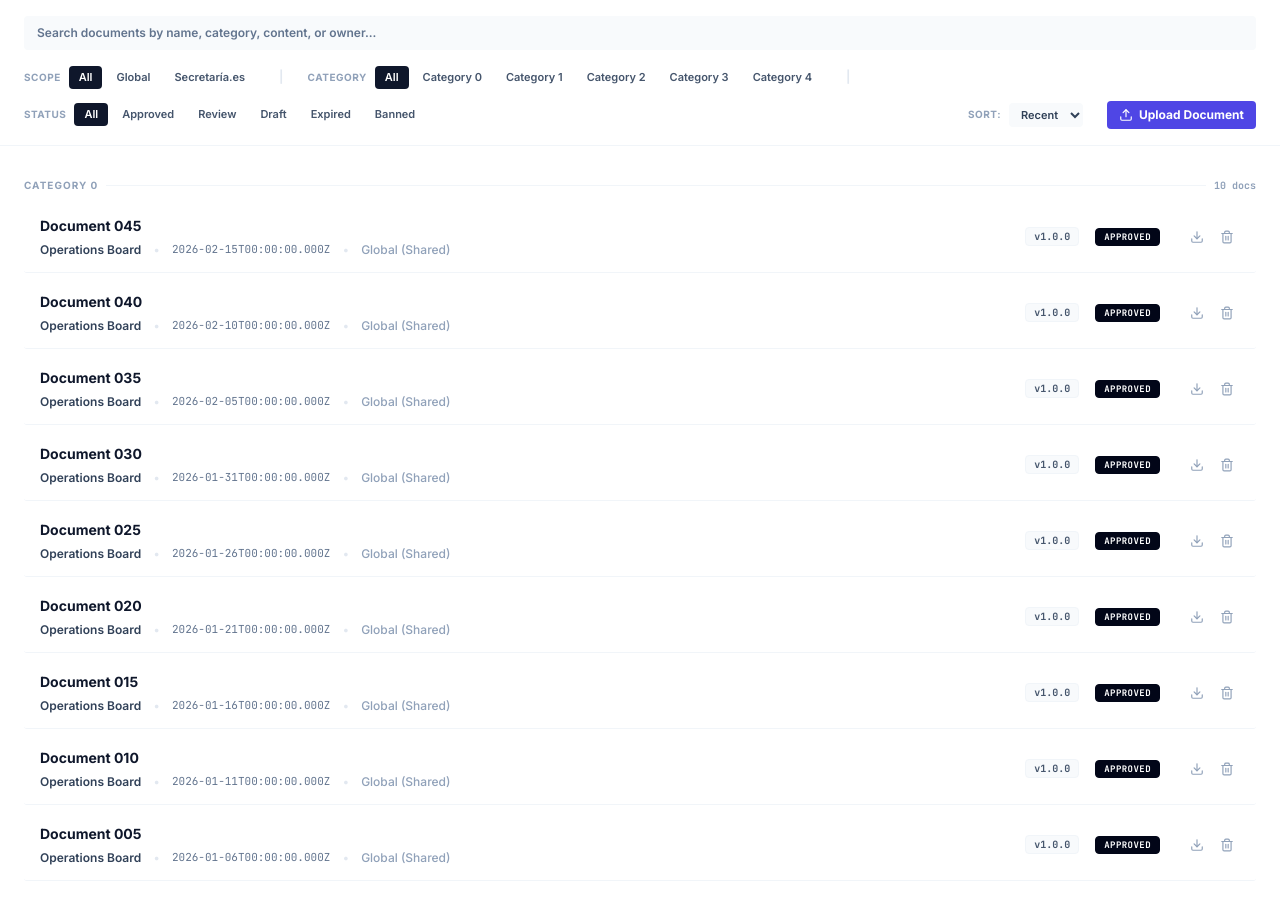
DocList virtualization › search filtering narrows the rendered set
Type "Document 007" into the field labelled "Search documents by name, category, content, or owner..." at (640, 33), box top-left (24, 16), bottom-right (1256, 50)
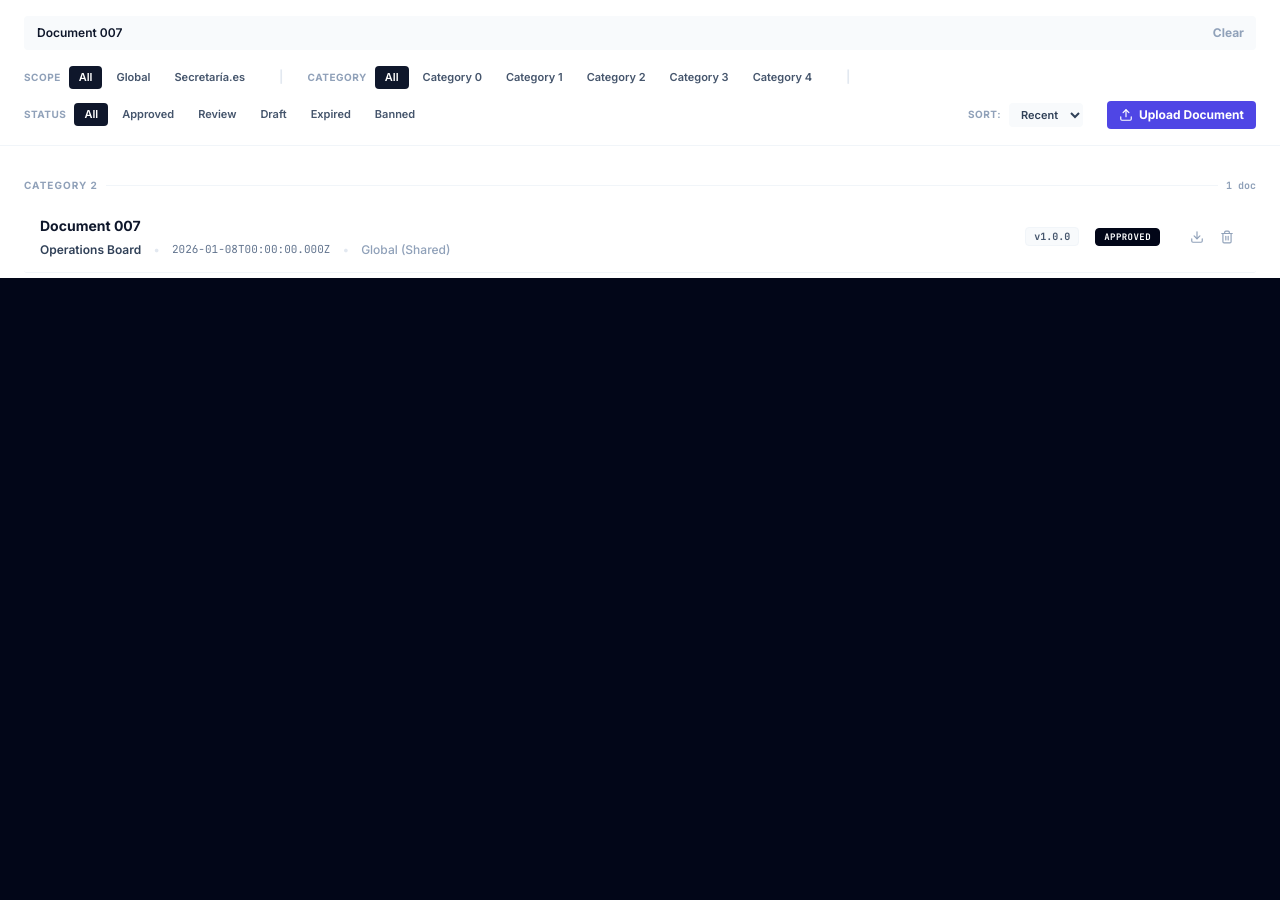
Expected: the button "Document 007" is shown, top-left (40, 216), bottom-right (141, 236)
